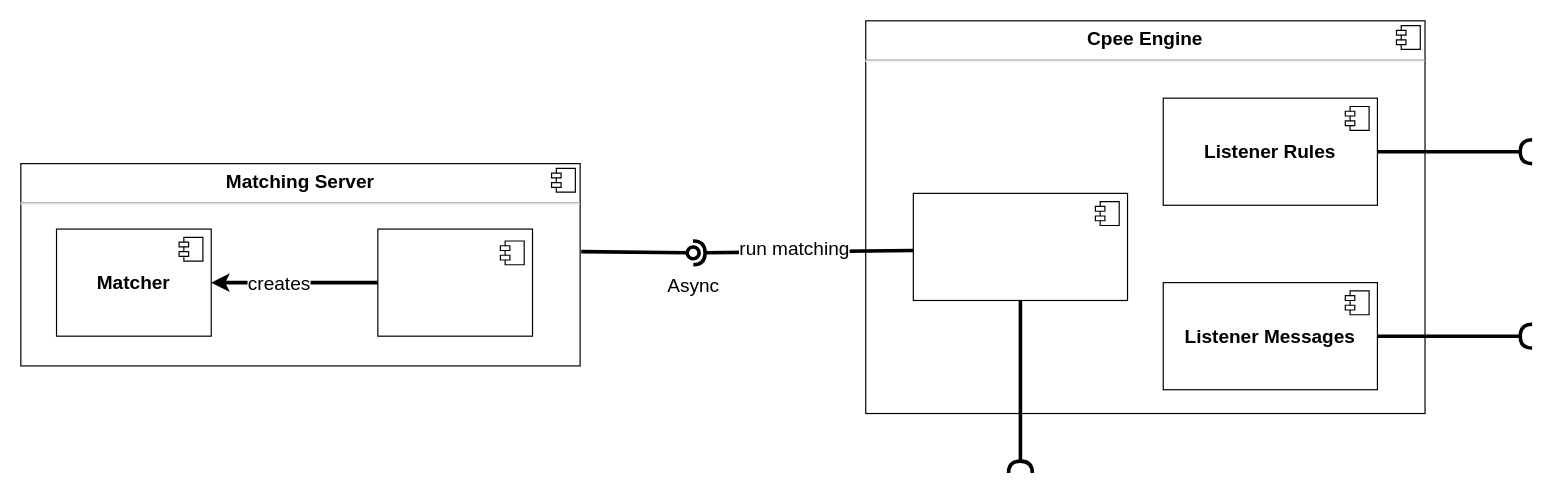
Some shapes in this 1554 by 495 pixel diagram are drawn without their labels. Here are the shapes that lost their labels. From the top down, the box of each, then its label:
(912, 192, 1128, 300): Matching
(377, 228, 533, 336): Uvicorn Server
